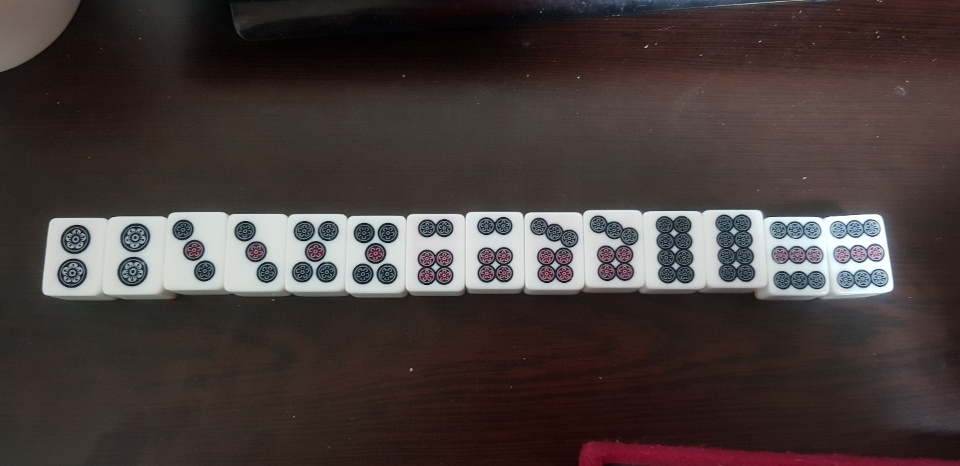pin_2: (106, 217, 163, 299), (47, 215, 97, 303)
pin_3: (165, 212, 224, 297), (229, 213, 286, 297)
pin_5: (286, 212, 349, 297), (347, 217, 411, 297)
pin_6: (468, 212, 524, 292), (407, 213, 465, 290)
pin_7: (583, 210, 652, 297), (524, 210, 583, 295)
pin_8: (649, 213, 707, 295), (709, 212, 759, 297)
pin_9: (761, 213, 827, 303), (829, 210, 895, 299)
